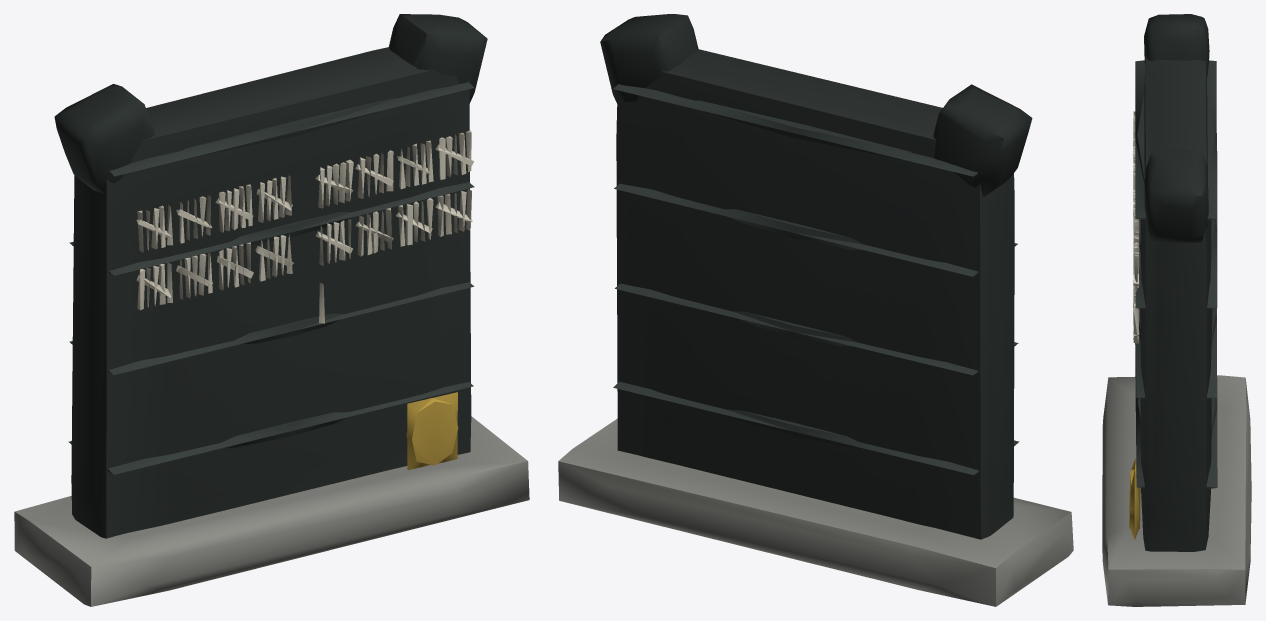
Rendered from tally_slab_a_lod1.glb.
3 renders of one model, left to right at view 1: azimuth 30°, elevation 25°; view 2: azimuth 150°, elevation 25°; view 3: azimuth 270°, elevation 25°, orthographic. The views are drawn at different scales.
Parts seen in each view (by area): view 1: Surface.001; view 2: Surface.001; view 3: Surface.001.
Part boxes in pixels (left/top/right/bottom): Surface.001: left=14, top=14, right=529, bottom=606; Surface.001: left=558, top=14, right=1073, bottom=606; Surface.001: left=1102, top=14, right=1251, bottom=606.
Bounding box in the file's own units: 1.8 × 1.81 × 0.5748.
